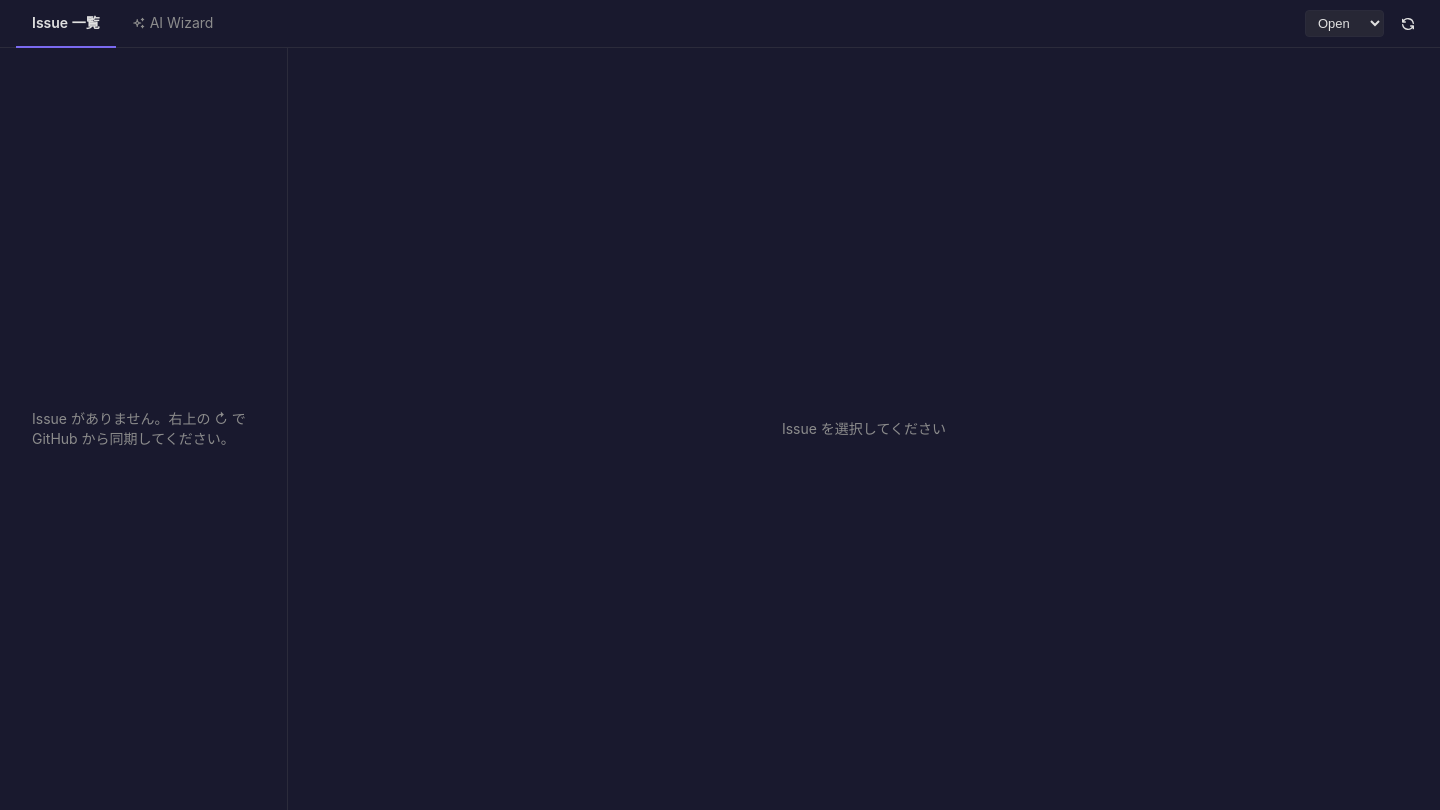
IssuesScreen — AI Wizard タブ › ドラフトありのときドラフト一覧にタイトルを表示
Click the button "AI Wizard": click(172, 24) x1=116 y1=0 x2=229 y2=48
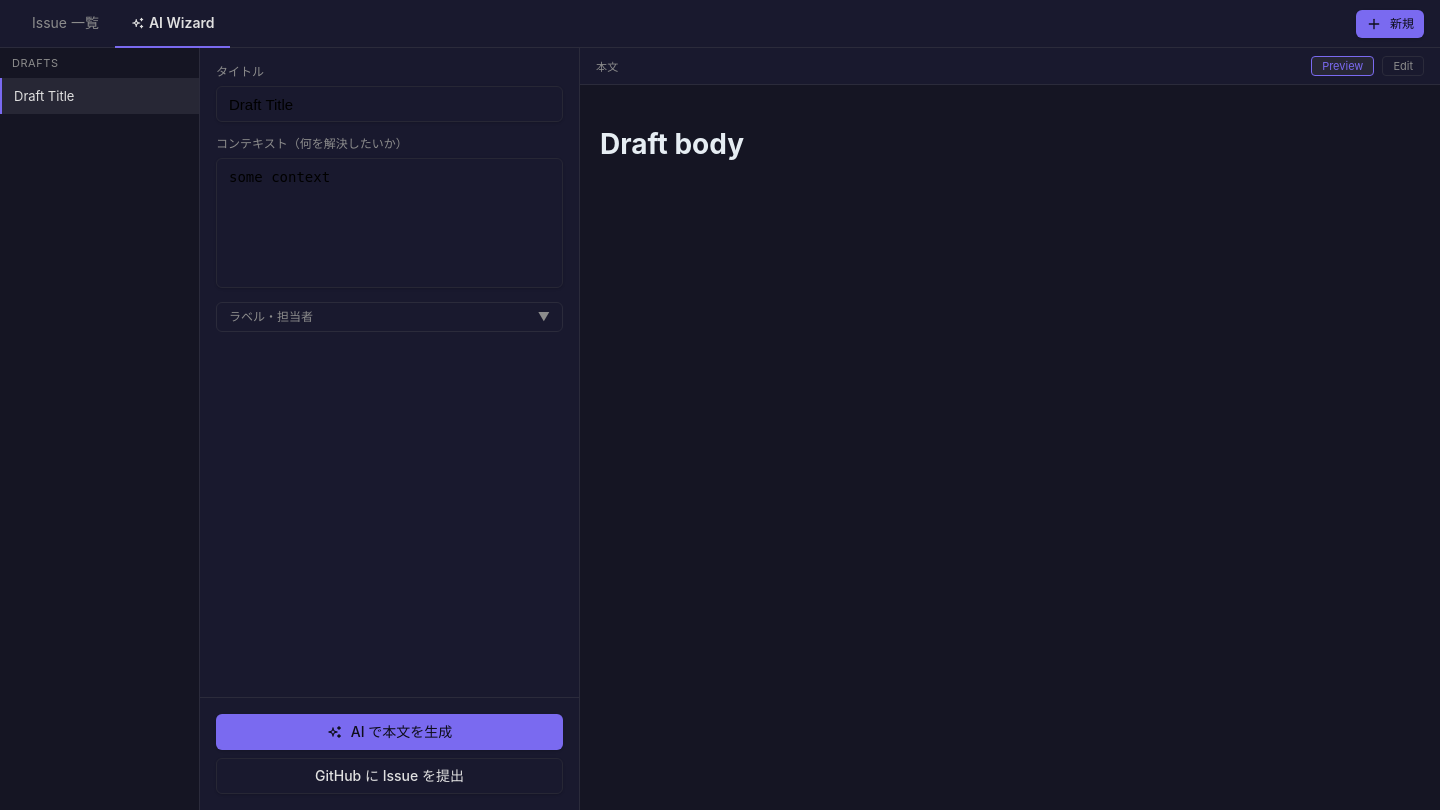
expect the button "Draft Title" is shown: met, box x1=0 y1=78 x2=199 y2=114
